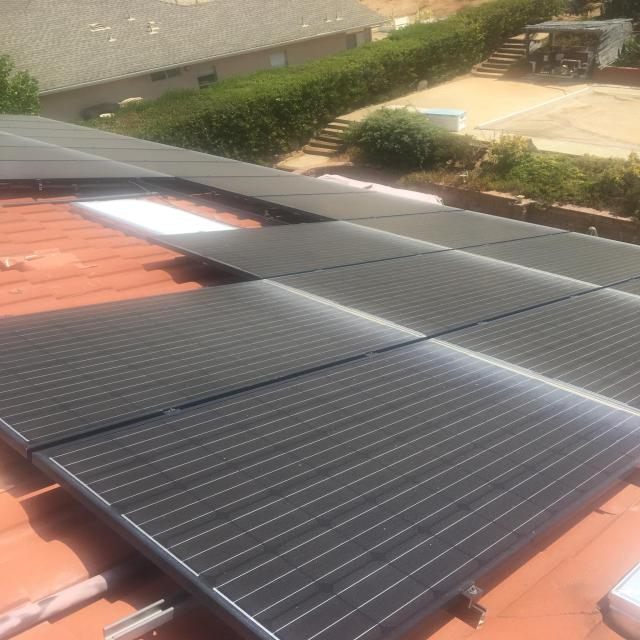dust-solar-panel: (0, 113, 638, 640)
